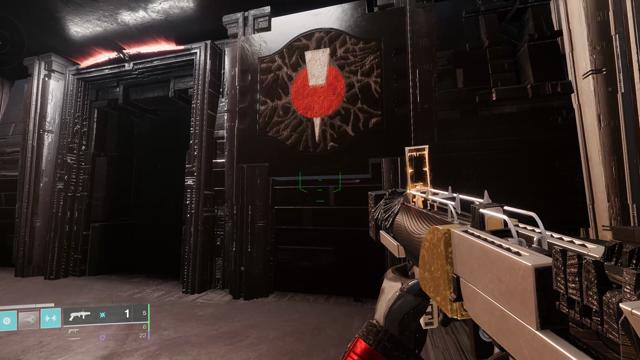kill: (258, 29, 385, 154)
